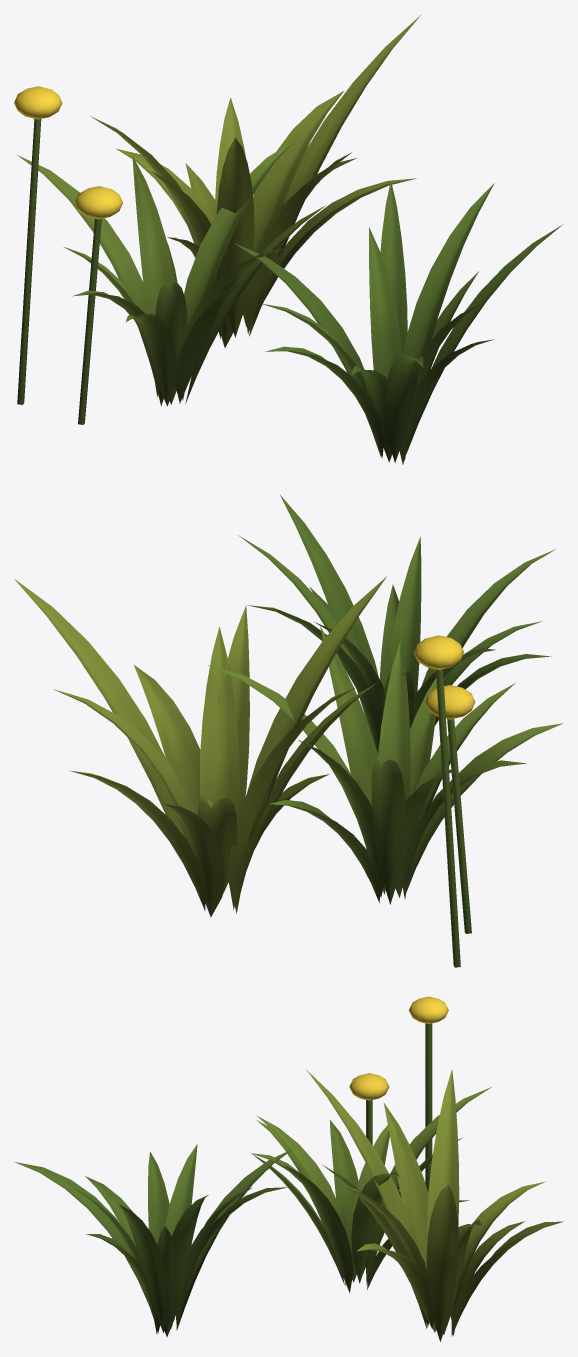
Rendered from yd_weeds__226.glb.
The picture shows the model from 3 angles, top to bottom: view 1: azimuth 30°, elevation 25°; view 2: azimuth 150°, elevation 25°; view 3: azimuth 270°, elevation 25°; orthographic projection. The views are drawn at different scales.
Parts seen in each view (by area): view 1: prop_yd_weeds; view 2: prop_yd_weeds; view 3: prop_yd_weeds.
Part boxes in pixels (bbox=[...]): prop_yd_weeds: bbox=[14, 15, 563, 464]; prop_yd_weeds: bbox=[14, 495, 563, 967]; prop_yd_weeds: bbox=[14, 996, 563, 1341].
Bounding box in the file's own units: 0.4809 × 0.3384 × 0.6536.
